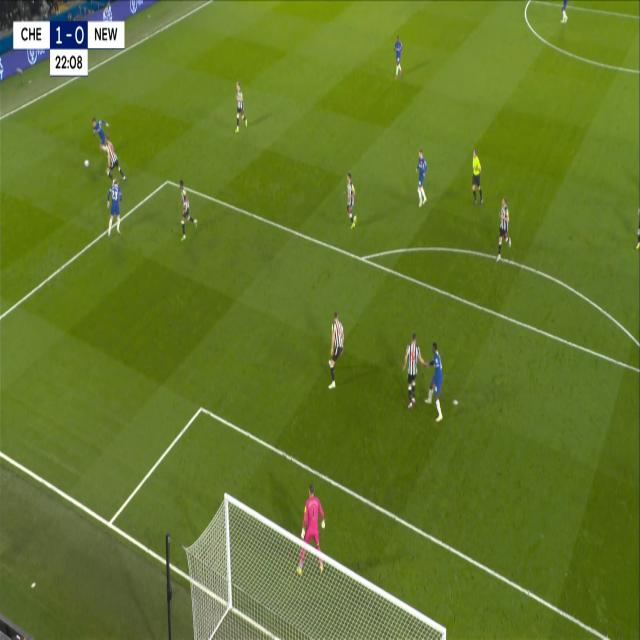Ball: (84, 154, 90, 171)
Chelsea: (422, 336, 447, 425), (104, 173, 125, 239), (414, 144, 428, 208), (392, 31, 404, 82), (89, 114, 108, 142)
New castle: (400, 329, 427, 413), (325, 306, 347, 394), (176, 172, 200, 244), (493, 192, 514, 266), (102, 133, 128, 186), (344, 167, 358, 230), (233, 75, 248, 133)
New castle keeper: (293, 477, 327, 583)
Refree: (468, 143, 485, 208)
